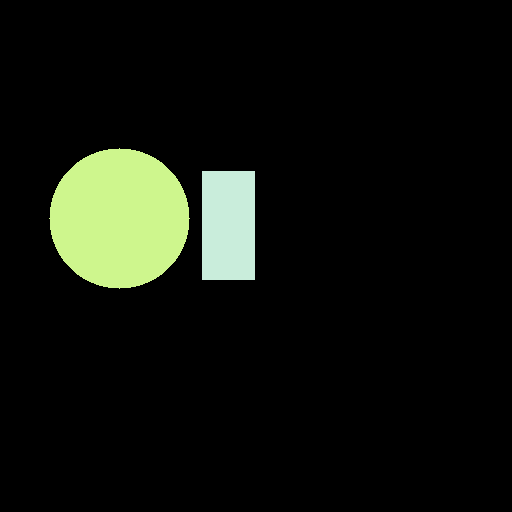circle: (49, 148, 189, 288)
rectangle: (202, 171, 254, 279)
